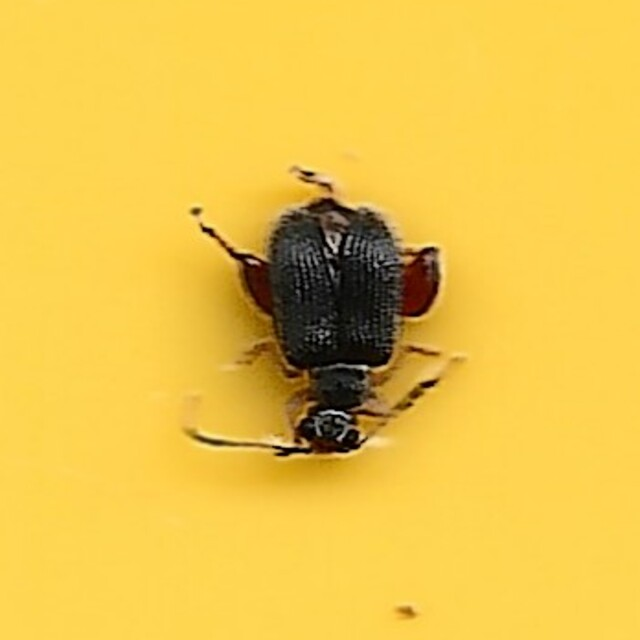Coleoptera: (184, 166, 456, 474)
